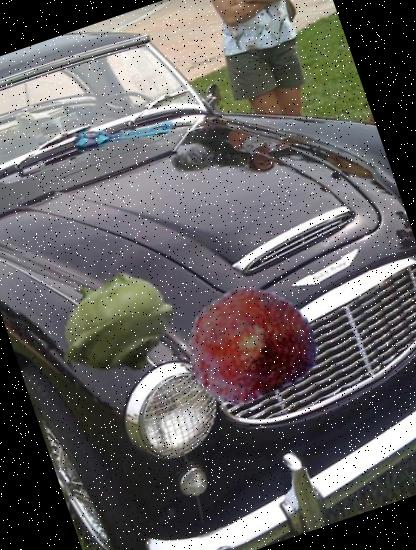Kohlrabi: (36, 247, 194, 405)
Salak: (169, 262, 329, 422)
